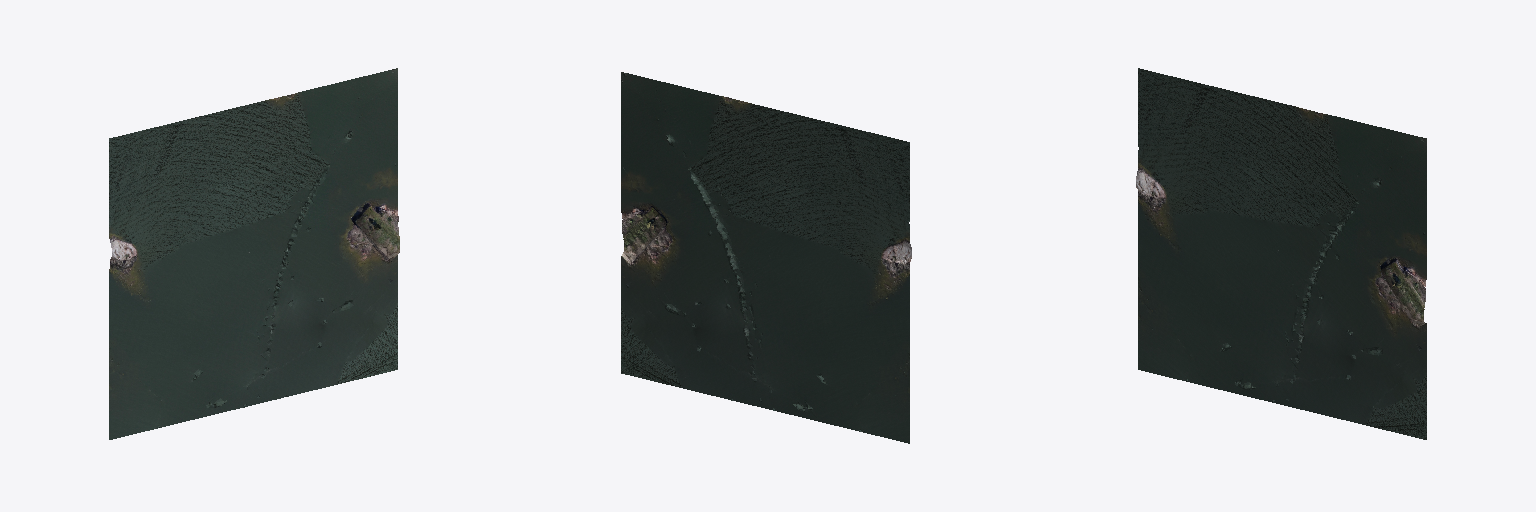
3 renders of one model, left to right at view 1: azimuth 30°, elevation 25°; view 2: azimuth 150°, elevation 25°; view 3: azimuth 330°, elevation 25°, orthographic.
Size of the model in its own units: 252 by 252 by 16.59.
2 materials, 1 textured.